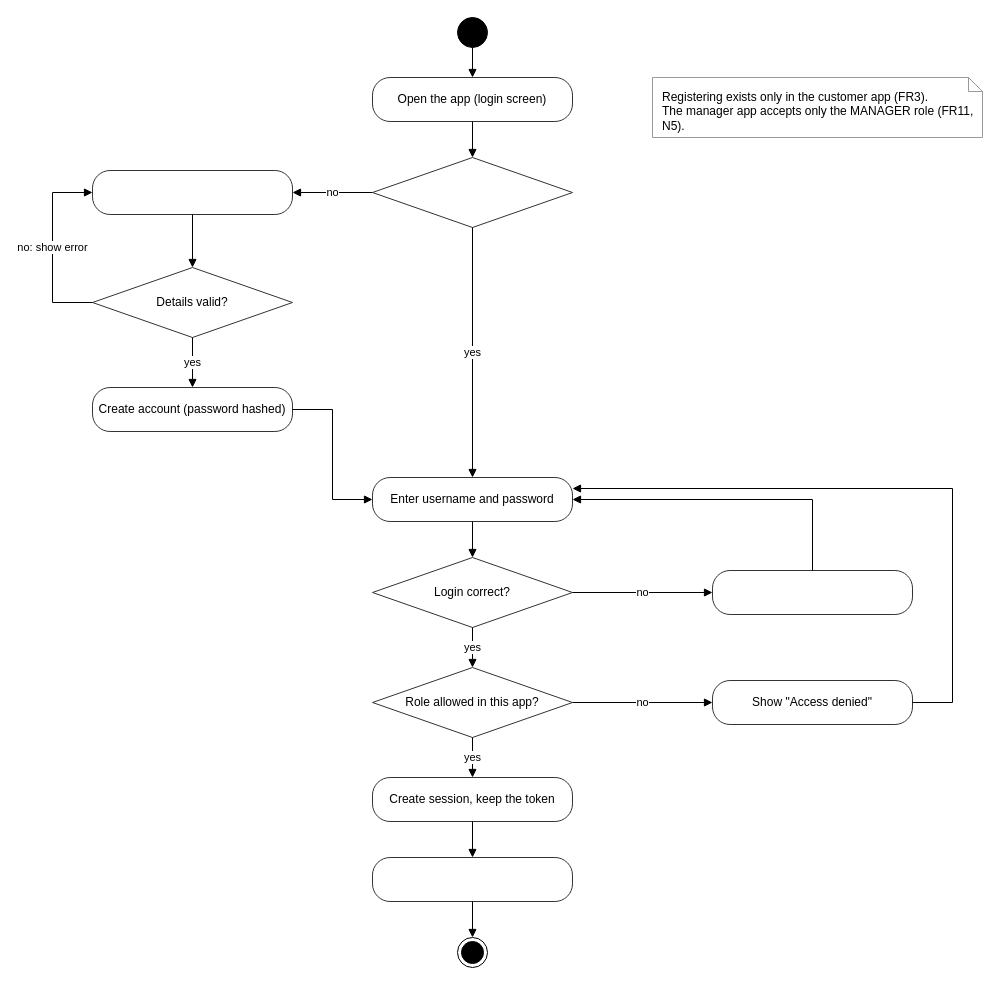
The diagram is 1000 pixels wide and 985 high, and some of its shapes have lost their labels. The shapes that lost their labels are listed below. From the top down, each one's centre as x and y in pixels, then its label:
point 192,192: Fill in username, email and password
point 472,192: Has an account?
point 812,592: Show "Wrong username or password"
point 472,879: Open the main screen
